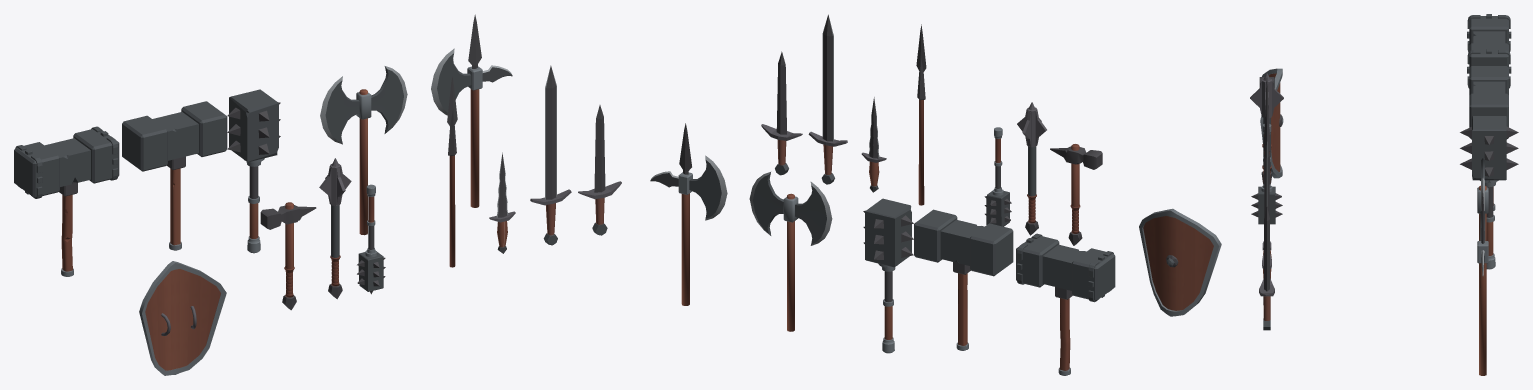
The model's file is MediavelWeapons.fbx.
The picture shows the model from 3 angles, left to right: view 1: azimuth 30°, elevation 25°; view 2: azimuth 150°, elevation 25°; view 3: azimuth 270°, elevation 25°; orthographic projection. The views are drawn at different scales.
Visible parts, largest first — view 1: Shield, WarHammer_Detailed, WarHammer, BigWarAxe, Spiked_WarHammer, Axe_Spear, LongSword, Spike_Hammer, Hammer, ShortSword, SpikedMiniHammer, Spear (+1 smaller); view 2: Shield, WarHammer_Detailed, WarHammer, BigWarAxe, Spiked_WarHammer, Axe_Spear, LongSword, Spike_Hammer, Hammer, ShortSword, SpikedMiniHammer, Spear (+1 smaller); view 3: Spiked_WarHammer, WarHammer_Detailed, WarHammer, Axe_Spear, Shield, ShortSword, Spike_Hammer, SpikedMiniHammer, BigWarAxe, LongSword, Spear.
Boxes of the visible parts, x1=… form: Shield: x1=139, y1=261, x2=226, y2=375; WarHammer_Detailed: x1=14, y1=126, x2=119, y2=276; WarHammer: x1=122, y1=101, x2=227, y2=250; BigWarAxe: x1=320, y1=66, x2=407, y2=235; Spiked_WarHammer: x1=227, y1=89, x2=280, y2=253; Axe_Spear: x1=431, y1=14, x2=512, y2=207; LongSword: x1=530, y1=65, x2=571, y2=245; Spike_Hammer: x1=319, y1=158, x2=351, y2=299; Hammer: x1=260, y1=202, x2=316, y2=310; ShortSword: x1=578, y1=105, x2=621, y2=235; SpikedMiniHammer: x1=357, y1=184, x2=385, y2=294; Spear: x1=447, y1=76, x2=457, y2=267; Shield: x1=1139, y1=208, x2=1221, y2=316; WarHammer_Detailed: x1=1016, y1=233, x2=1115, y2=375; WarHammer: x1=914, y1=209, x2=1013, y2=350; BigWarAxe: x1=749, y1=172, x2=832, y2=331; Spiked_WarHammer: x1=863, y1=198, x2=913, y2=353; Axe_Spear: x1=650, y1=123, x2=727, y2=305; LongSword: x1=808, y1=14, x2=847, y2=184; Spike_Hammer: x1=1017, y1=102, x2=1046, y2=235; Hammer: x1=1050, y1=144, x2=1102, y2=245; ShortSword: x1=761, y1=51, x2=802, y2=175; SpikedMiniHammer: x1=984, y1=127, x2=1011, y2=226; Spear: x1=916, y1=24, x2=926, y2=205; Spiked_WarHammer: x1=1460, y1=116, x2=1518, y2=269; WarHammer_Detailed: x1=1467, y1=14, x2=1511, y2=88; WarHammer: x1=1469, y1=66, x2=1508, y2=210; Axe_Spear: x1=1477, y1=193, x2=1488, y2=375; Shield: x1=1260, y1=68, x2=1283, y2=178; ShortSword: x1=1259, y1=207, x2=1274, y2=330; Spike_Hammer: x1=1250, y1=73, x2=1283, y2=183; SpikedMiniHammer: x1=1251, y1=124, x2=1282, y2=224; BigWarAxe: x1=1477, y1=158, x2=1488, y2=240; LongSword: x1=1262, y1=135, x2=1271, y2=304; Spear: x1=1263, y1=77, x2=1270, y2=151.
Size of the model in its own units: 4.97 by 2.49 by 2.4.
